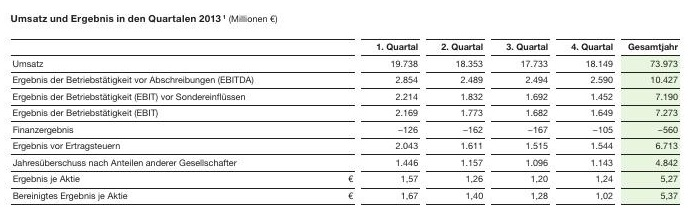table: (0, 0, 694, 215)
